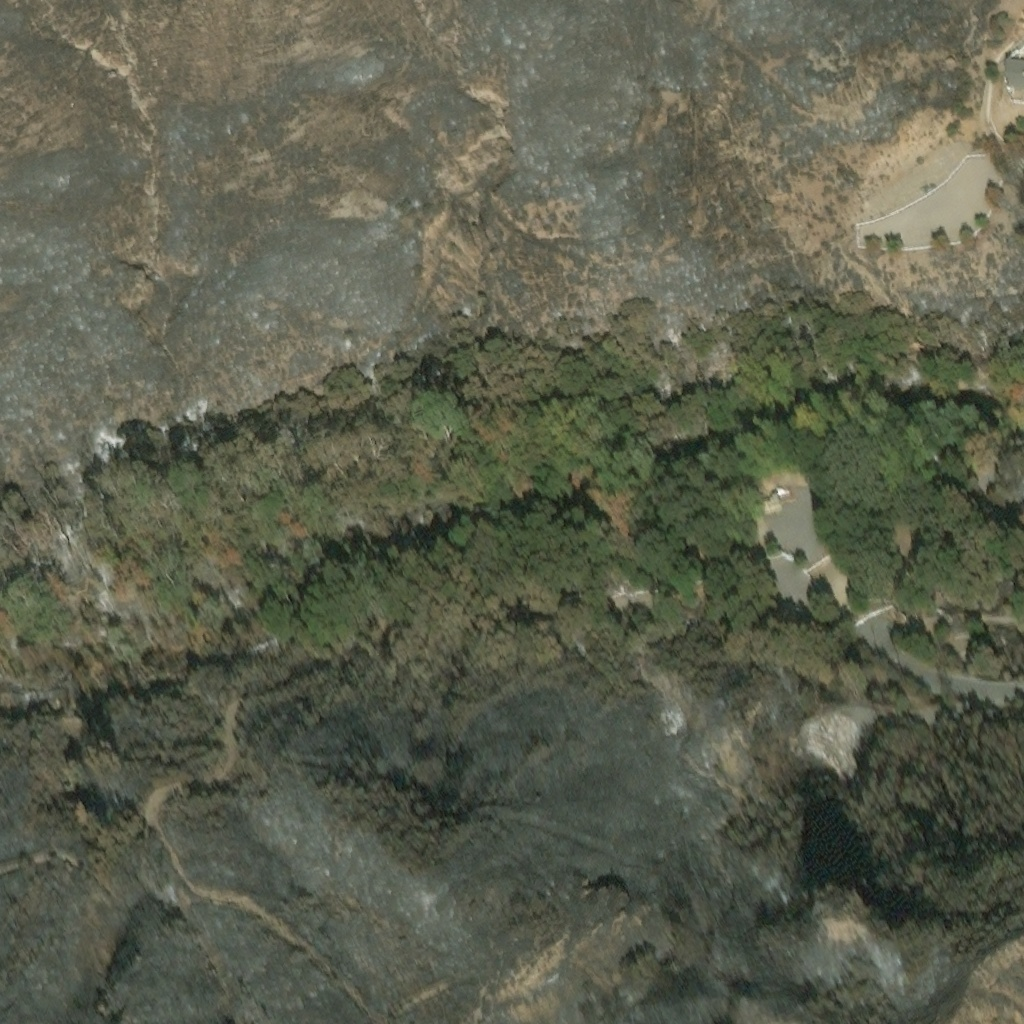0 no-damage: (1003, 60, 1023, 95), (772, 481, 787, 491)
3 destroyed: (794, 703, 849, 751)
